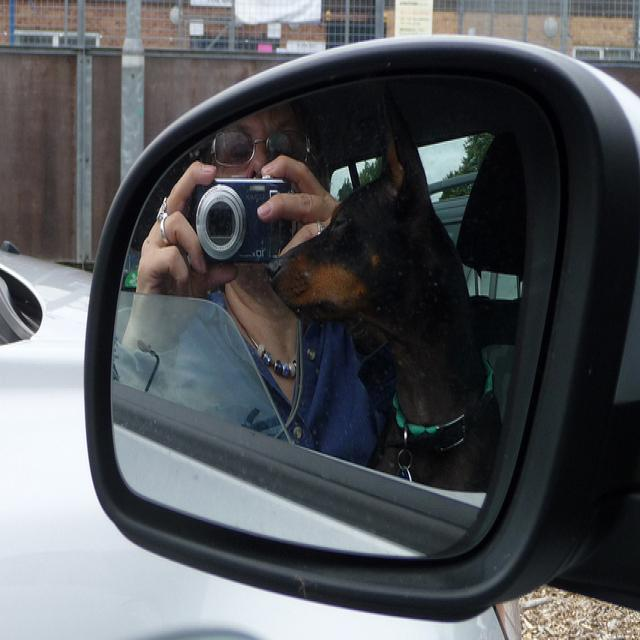Vehicle: (0, 246, 520, 634)
